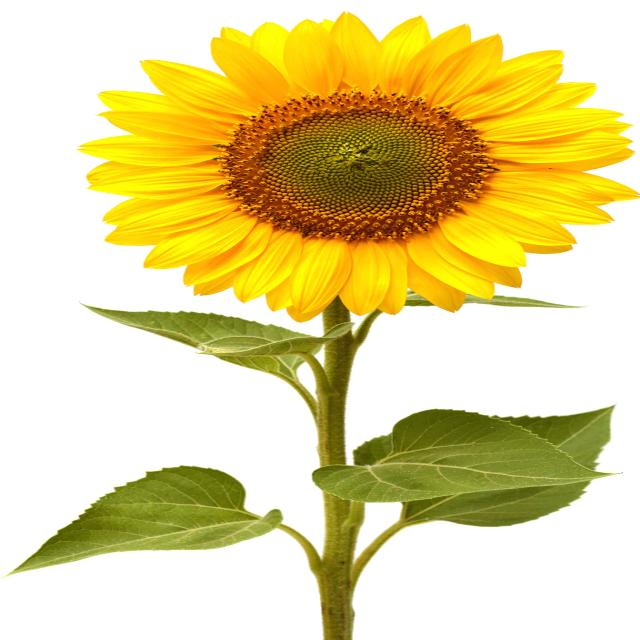sunflower: (52, 9, 633, 324)
